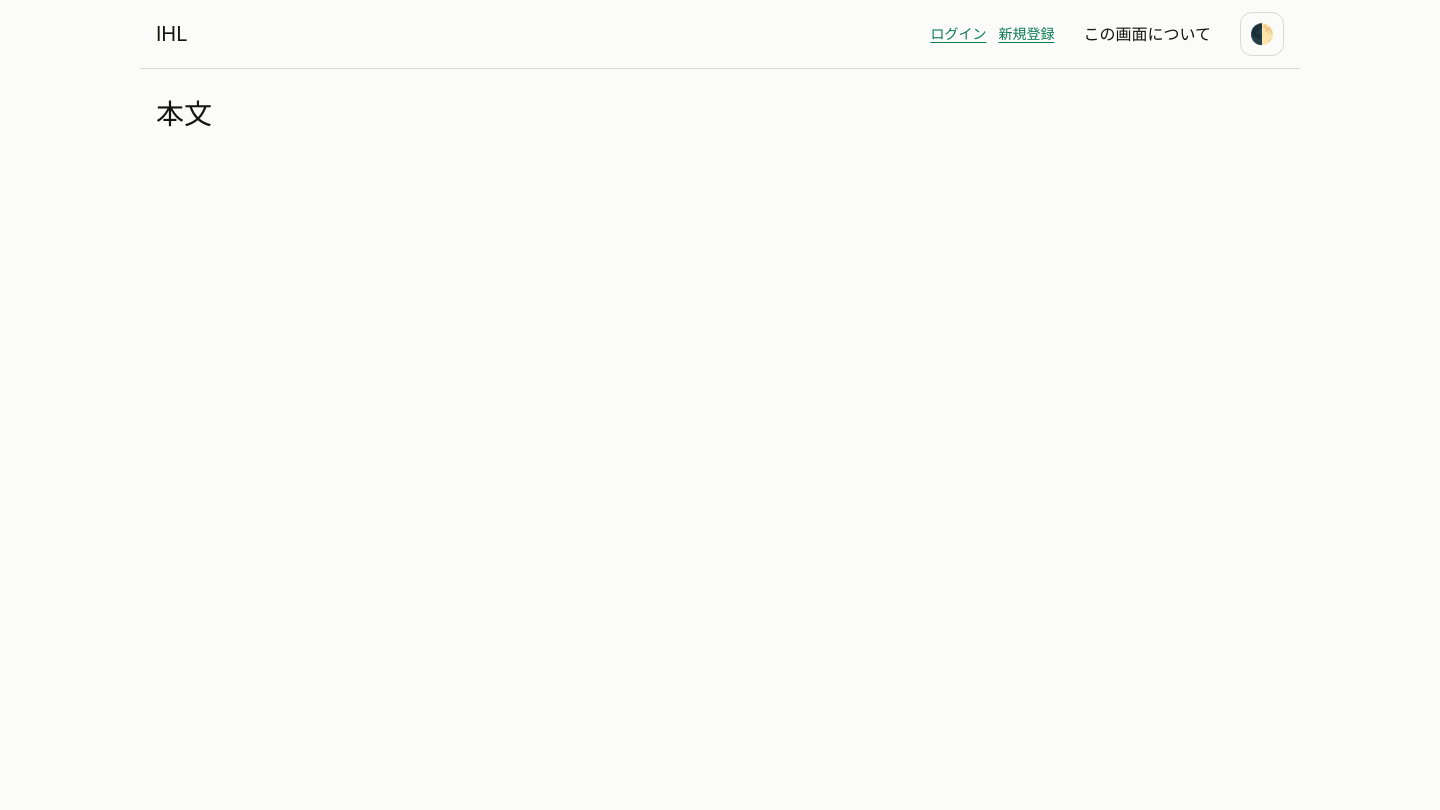
Test case: g79-bundleA: PageInfoPanel(page_infoパネル) › purpose だけの page_info でもトリガー+パネルが出る(how_to/faq/talk_channel は任意)
Click the button "この画面について": (1147, 34) [1066,12,1228,56]
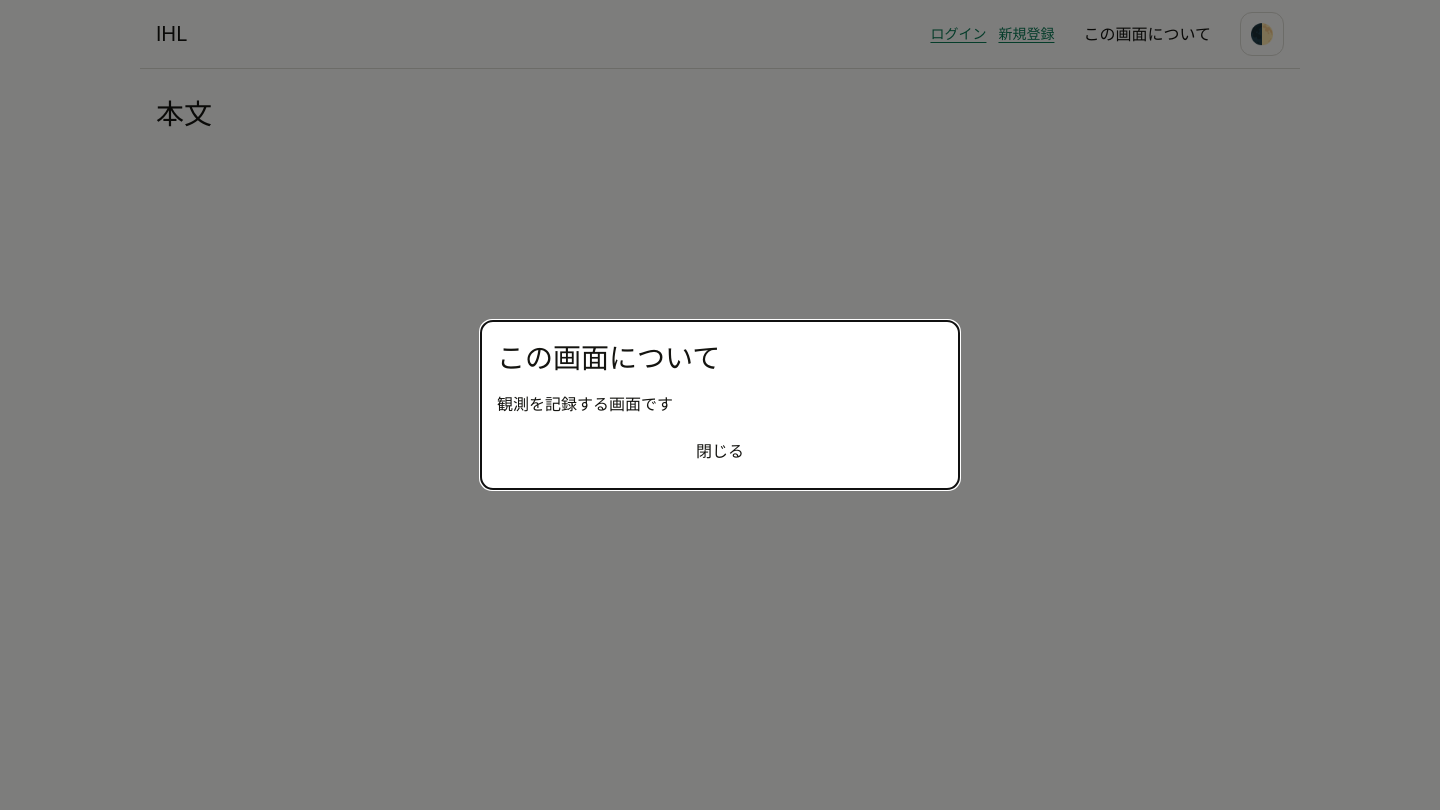
Expected: the text "観測を記録する画面です" is shown, [497,394,673,414]
